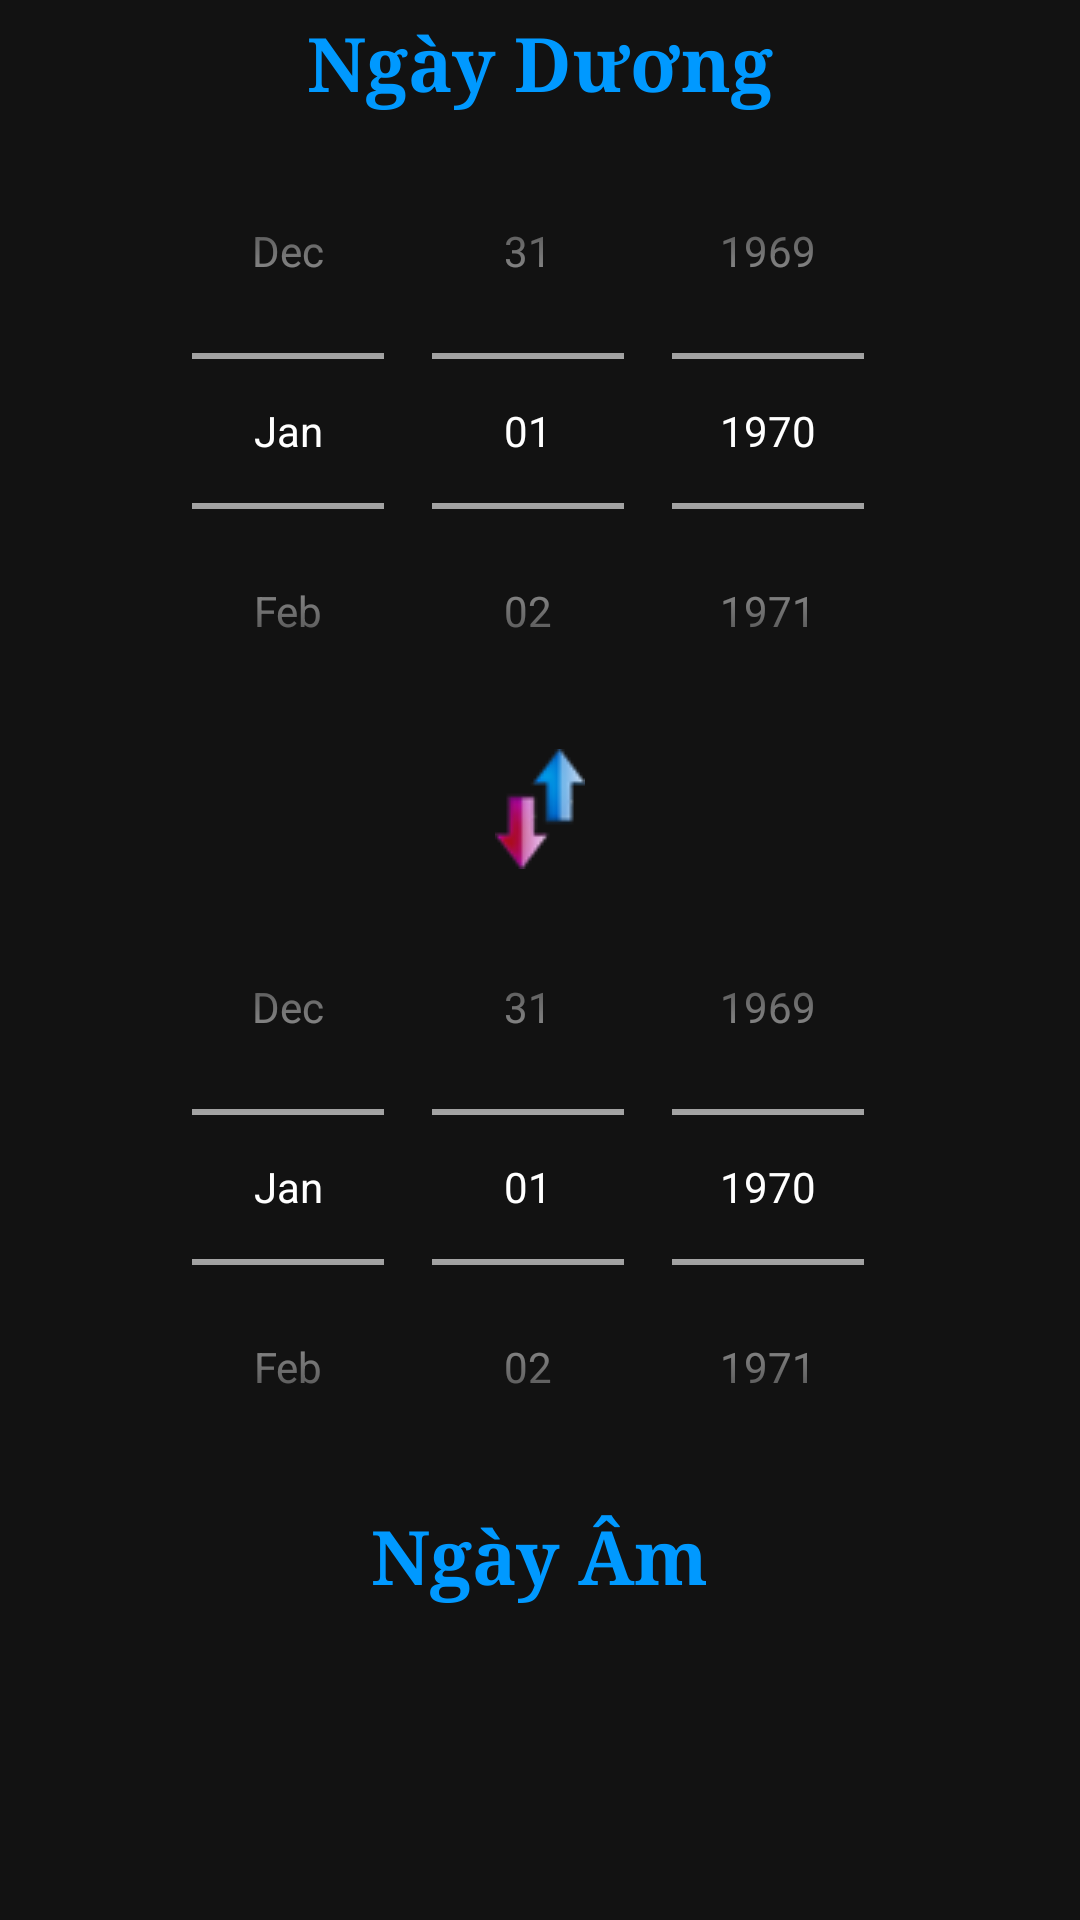

Screen size 1080px×1920px. Icon name, then its center in pixels as point (x, y):
convert: point (540, 809)
